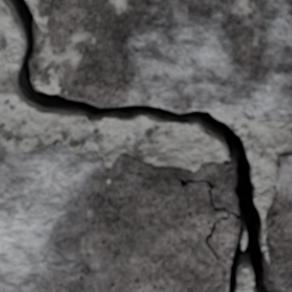brick: (0, 144, 238, 291), (33, 0, 291, 120), (265, 155, 291, 289)
crack: (1, 0, 291, 291)
